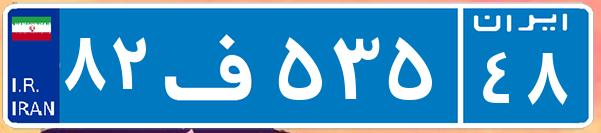2: (110, 28, 158, 105)
3: (330, 28, 385, 110)
4: (475, 38, 525, 113)
5: (385, 28, 445, 110), (273, 28, 330, 110)
8: (57, 26, 110, 107), (525, 38, 570, 115)
ف: (158, 15, 273, 115)
